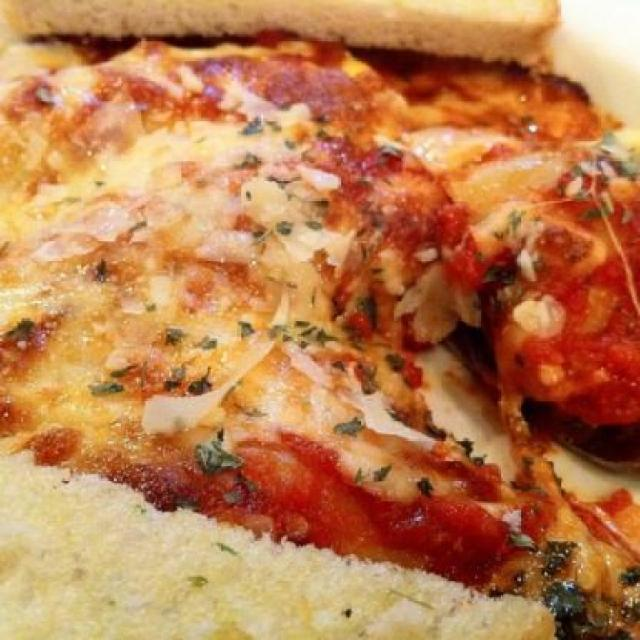Lasagna: (34, 46, 618, 526)
